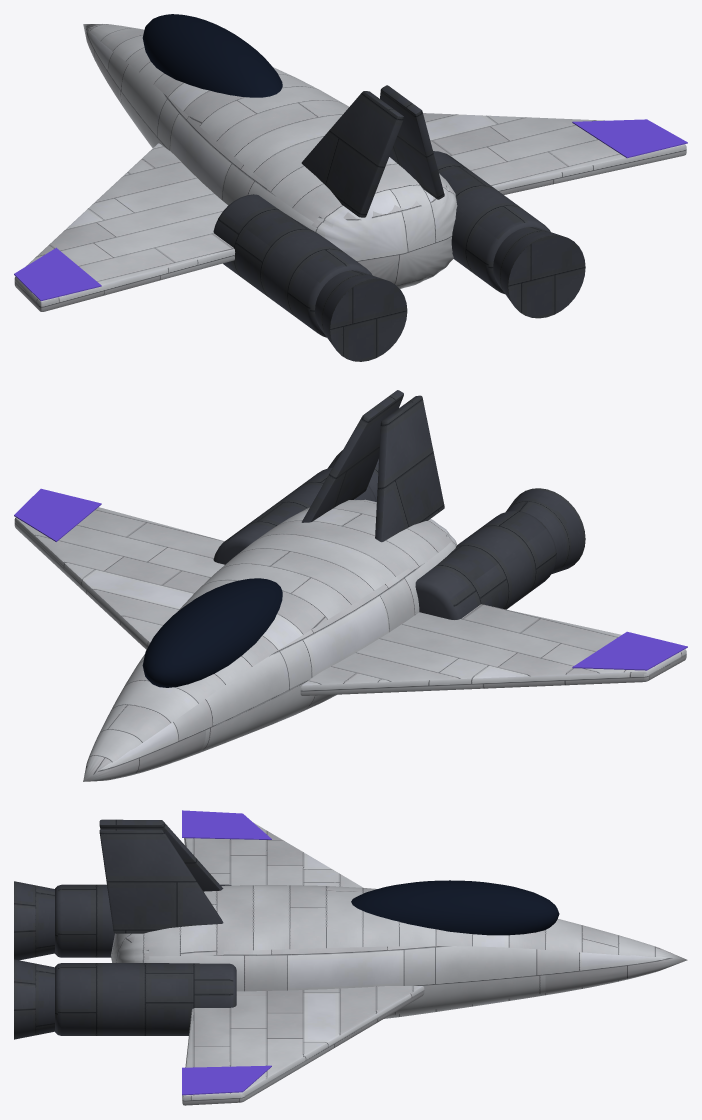
The model's file is ship.glb.
The picture shows the model from 3 angles, top to bottom: view 1: azimuth 30°, elevation 25°; view 2: azimuth 150°, elevation 25°; view 3: azimuth 270°, elevation 25°; orthographic projection. The views are drawn at different scales.
Parts seen in each view (by area): view 1: Hull, Wing-1, Wing1, Nacelle-1, Canopy, Fin-1, Nozzle-1, Nozzle1, Nacelle1, Fin1, Stripe1, Stripe-1; view 2: Hull, Wing-1, Wing1, Nacelle-1, Canopy, Fin-1, Fin1, Nozzle-1, Nacelle1, Stripe-1, Stripe1; view 3: Hull, Wing1, Nacelle1, Fin1, Canopy, Wing-1, Nacelle-1, Nozzle1, Nozzle-1, Stripe1, Stripe-1, Fin-1.
Boxes of the visible parts, x1,y1,x2,y2 form: Hull: [83, 24, 457, 288]; Wing-1: [14, 143, 235, 311]; Wing1: [423, 113, 686, 194]; Nacelle-1: [213, 194, 372, 337]; Canopy: [142, 14, 282, 97]; Fin-1: [301, 91, 403, 217]; Nozzle-1: [315, 270, 407, 361]; Nozzle1: [493, 227, 585, 318]; Nacelle1: [433, 151, 550, 293]; Fin1: [380, 85, 444, 199]; Stripe1: [572, 119, 687, 158]; Stripe-1: [14, 247, 101, 301]; Hull: [83, 499, 456, 781]; Wing-1: [300, 604, 686, 695]; Wing1: [14, 507, 224, 649]; Nacelle-1: [415, 511, 556, 619]; Canopy: [142, 578, 282, 687]; Fin-1: [375, 395, 444, 542]; Fin1: [301, 390, 403, 522]; Nozzle-1: [506, 488, 585, 574]; Nacelle1: [213, 467, 376, 564]; Stripe-1: [572, 631, 687, 670]; Stripe1: [14, 488, 101, 541]; Hull: [111, 885, 687, 1018]; Wing1: [182, 986, 424, 1105]; Nacelle1: [55, 963, 236, 1035]; Fin1: [99, 829, 223, 933]; Canopy: [351, 880, 559, 935]; Wing-1: [184, 822, 363, 887]; Nacelle-1: [55, 884, 231, 957]; Nozzle1: [14, 959, 54, 1039]; Nozzle-1: [14, 881, 54, 960]; Stripe1: [182, 1065, 271, 1095]; Stripe-1: [182, 810, 271, 839]; Fin-1: [99, 819, 223, 891].
Bounding box in the file's own units: 2.76 × 0.839 × 2.77.
5 materials, 2 textured.
